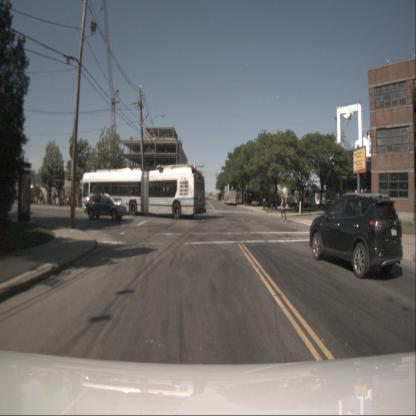human-pedestrian-adult: (281, 196, 288, 223), (61, 189, 65, 207), (66, 191, 70, 207), (39, 191, 43, 206), (76, 191, 79, 209), (56, 188, 59, 206), (53, 190, 56, 206)
vehicle-bus-rigid: (223, 184, 237, 206)
vehicle-car: (309, 193, 403, 278), (83, 193, 127, 221), (217, 192, 222, 202)
